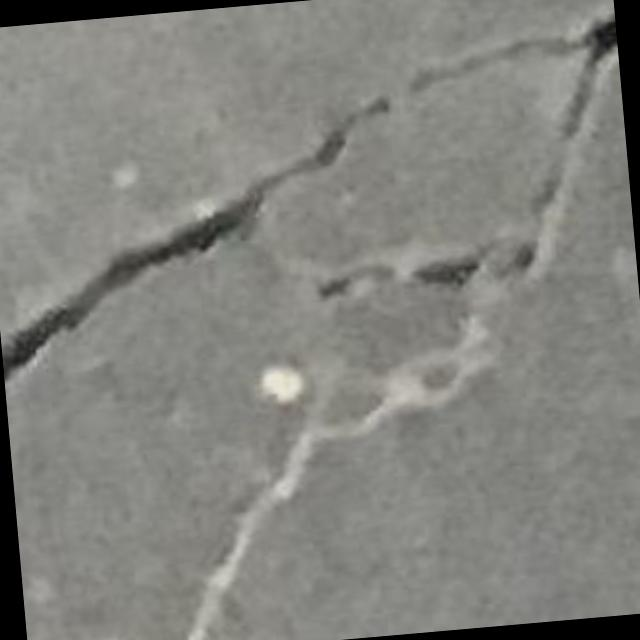crack: (289, 16, 617, 300)
